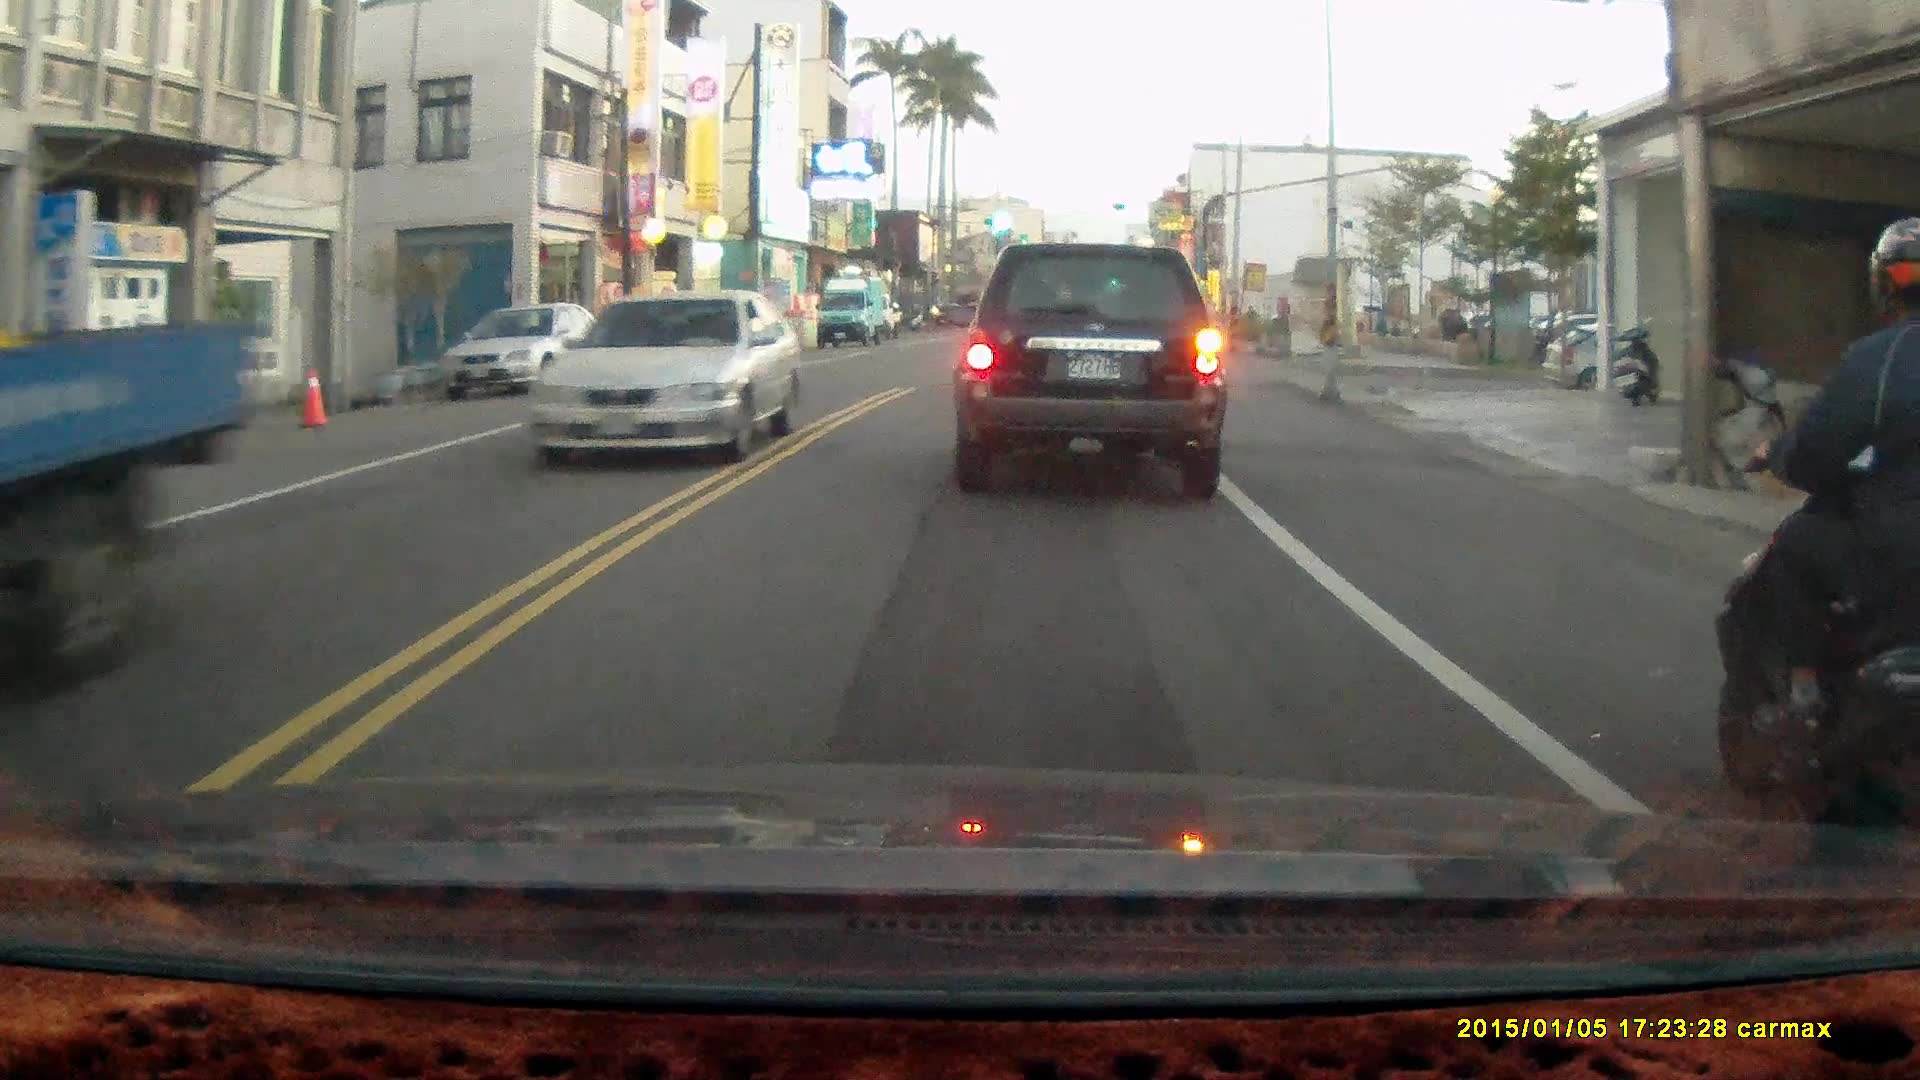rider: (1707, 212, 1919, 893)
vehicle: (1, 317, 252, 634), (952, 241, 1232, 500), (524, 287, 800, 474), (433, 304, 617, 399), (1538, 327, 1744, 403), (818, 276, 895, 350)
